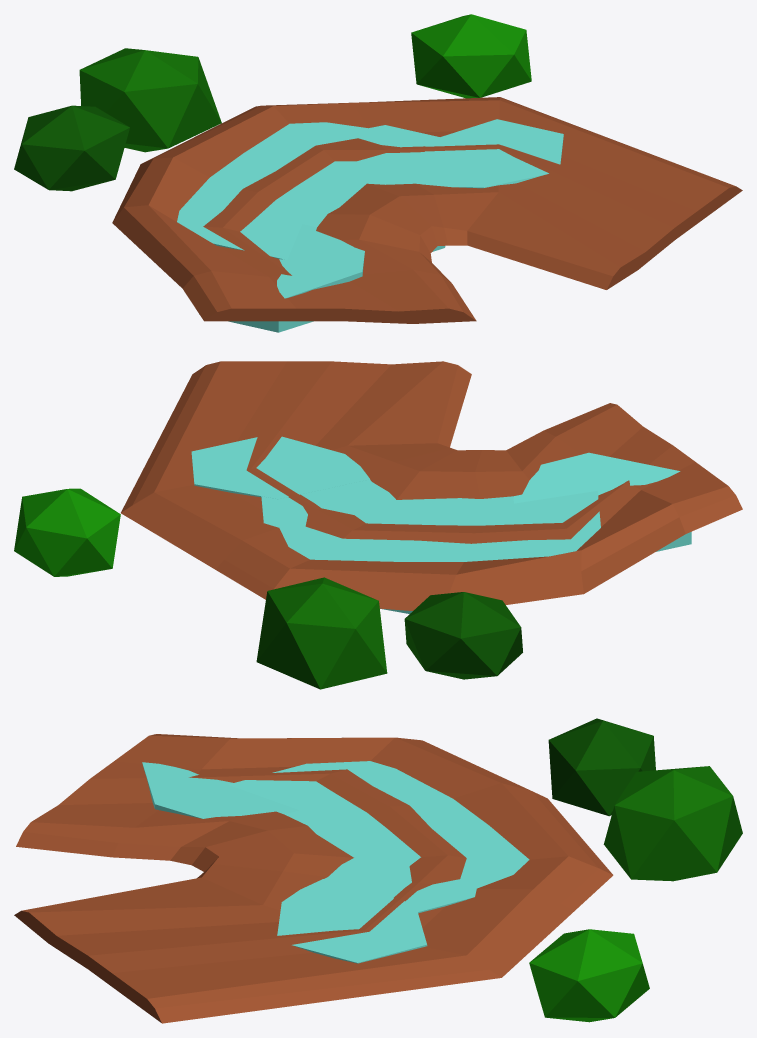
The model's file is street3_01_5.fbx.
The picture shows the model from 3 angles, top to bottom: view 1: azimuth 30°, elevation 25°; view 2: azimuth 150°, elevation 25°; view 3: azimuth 270°, elevation 25°; orthographic projection. The views are drawn at different scales.
Parts seen in each view (by area): view 1: redRoad01.001, waterRoundsBig, bush.016, bush.017, bush.018, waterRoundsSmall.001, waterRoundsSmall; view 2: redRoad01.001, waterRoundsBig, bush.016, bush.018, bush.017, waterRoundsSmall.001, waterRoundsSmall; view 3: redRoad01.001, waterRoundsBig, bush.016, bush.017, waterRoundsSmall.001, bush.018, waterRoundsSmall.
Boxes of the visible parts, x1=… form: redRoad01.001: x1=112, y1=97, x2=742, y2=323; waterRoundsBig: x1=177, y1=122, x2=445, y2=259; bush.016: x1=79, y1=48, x2=221, y2=152; bush.017: x1=411, y1=14, x2=531, y2=98; bush.018: x1=14, y1=105, x2=129, y2=191; waterRoundsSmall.001: x1=421, y1=119, x2=563, y2=188; waterRoundsSmall: x1=199, y1=224, x2=364, y2=332; redRoad01.001: x1=121, y1=361, x2=742, y2=610; waterRoundsBig: x1=261, y1=479, x2=600, y2=613; bush.016: x1=256, y1=577, x2=387, y2=689; bush.018: x1=404, y1=592, x2=522, y2=679; bush.017: x1=14, y1=488, x2=120, y2=576; waterRoundsSmall.001: x1=191, y1=436, x2=369, y2=499; waterRoundsSmall: x1=513, y1=452, x2=691, y2=551; redRoad01.001: x1=14, y1=734, x2=613, y2=1023; waterRoundsBig: x1=228, y1=761, x2=529, y2=913; bush.016: x1=603, y1=766, x2=742, y2=881; bush.017: x1=529, y1=929, x2=649, y2=1022; waterRoundsSmall.001: x1=277, y1=879, x2=427, y2=963; bush.018: x1=548, y1=718, x2=655, y2=816; waterRoundsSmall: x1=142, y1=762, x2=299, y2=818.
Bounding box in the file's own units: 79.82 × 14.5 × 86.2.
